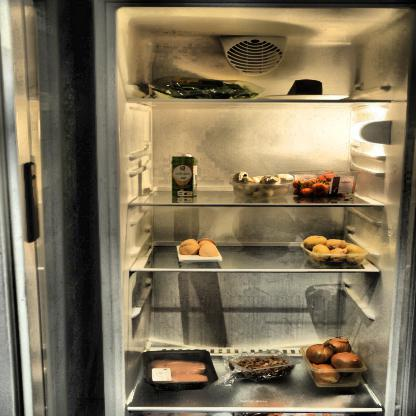cheese: (287, 78, 328, 96)
chicken: (146, 350, 211, 384)
eggs: (178, 236, 220, 260)
heavy_cream: (166, 152, 199, 201)
mushrooms: (232, 171, 294, 199)
onion: (303, 334, 365, 388)
potato: (300, 235, 371, 266)
shrimp: (230, 354, 292, 378)
spinach: (154, 77, 264, 101)
strawberries: (295, 170, 360, 196)
